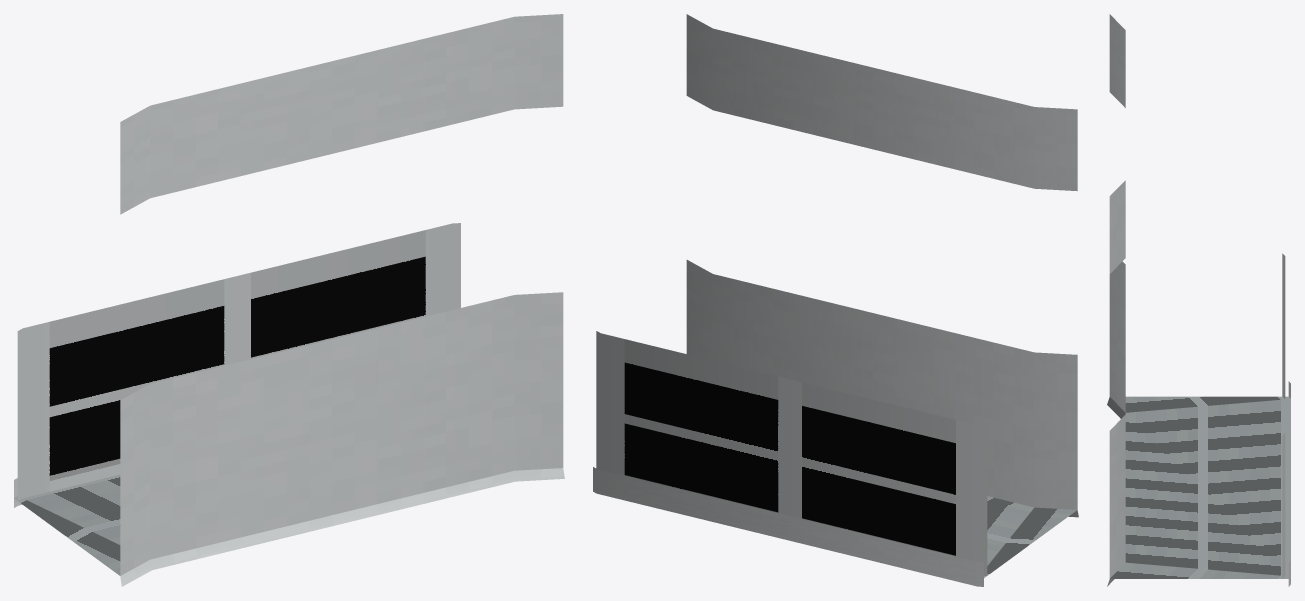
Rendered from bowl_medium_band_shell_1.obj.
The picture shows the model from 3 angles, left to right: view 1: azimuth 30°, elevation 25°; view 2: azimuth 150°, elevation 25°; view 3: azimuth 270°, elevation 25°; orthographic projection. The views are drawn at different scales.
Parts seen in each view (by area): view 1: bowl_medium_band_shell_1; view 2: bowl_medium_band_shell_1; view 3: bowl_medium_band_shell_1.
Boxes of the visible parts, x1,y1,x2,y2 form: bowl_medium_band_shell_1: (14,14,564,586); bowl_medium_band_shell_1: (593,14,1078,586); bowl_medium_band_shell_1: (1107,14,1290,586).
Size of the model in its own units: 3 by 3 by 1.28.
